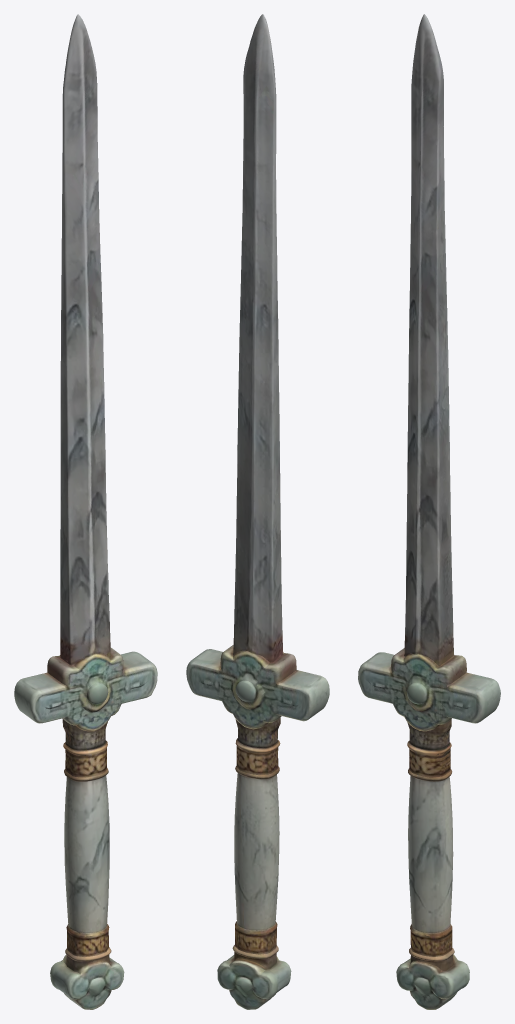
Rendered from w_jian.glb.
The picture shows the model from 3 angles, left to right: view 1: azimuth 30°, elevation 25°; view 2: azimuth 150°, elevation 25°; view 3: azimuth 330°, elevation 25°; orthographic projection.
Visible parts, largest first — view 1: model; view 2: model; view 3: model.
Boxes of the visible parts, x1,y1,x2,y2 form: model: (14,14,157,1009); model: (186,14,329,1009); model: (358,14,500,1009).
Bounding box in the file's own units: 0.255 × 1.9 × 0.1003.
1 material, 1 textured.
